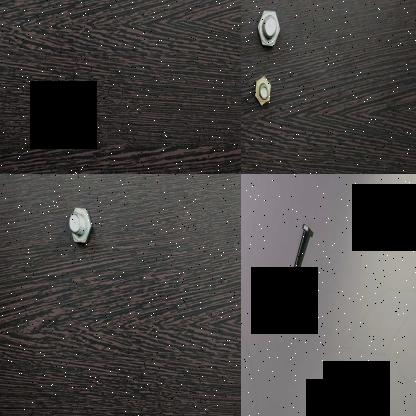Bolts: (254, 1, 282, 52), (290, 220, 315, 272), (65, 202, 92, 244), (250, 68, 272, 119)
